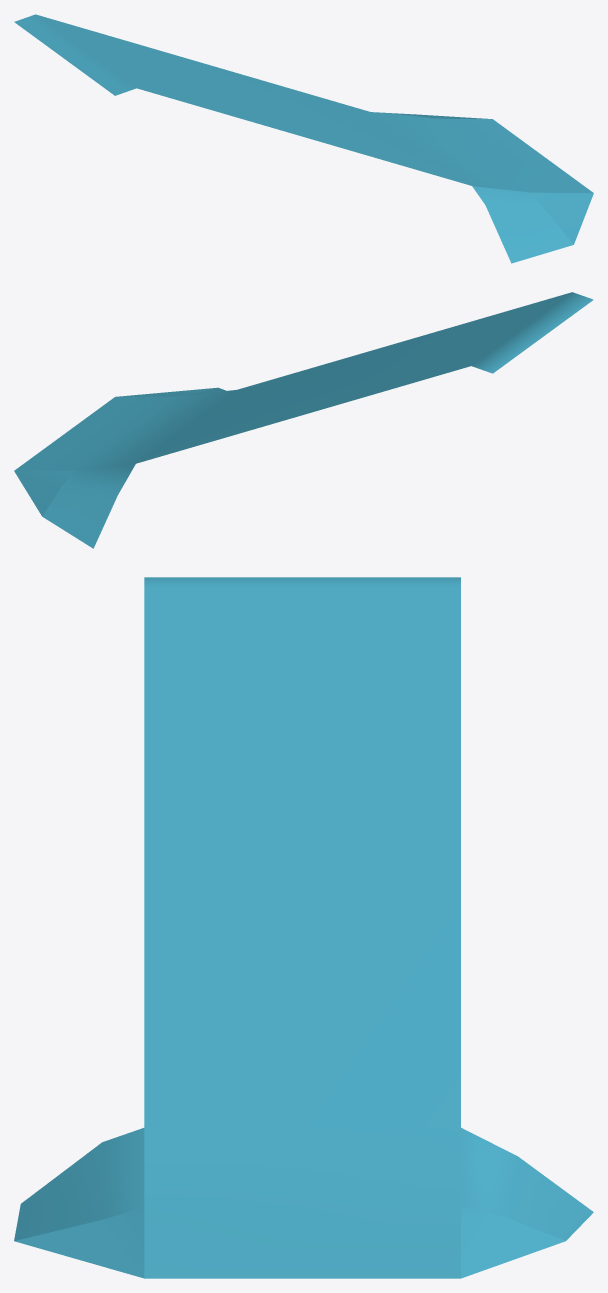
Rendered from Metal_Stair_02_Collider.fbx.
The picture shows the model from 3 angles, top to bottom: view 1: azimuth 30°, elevation 25°; view 2: azimuth 150°, elevation 25°; view 3: azimuth 270°, elevation 25°; orthographic projection. The views are drawn at different scales.
Parts seen in each view (by area): view 1: Metal_Stair_02_Collider; view 2: Metal_Stair_02_Collider; view 3: Metal_Stair_02_Collider.
Part boxes in pixels (bbox=[...]): Metal_Stair_02_Collider: bbox=[14, 14, 593, 263]; Metal_Stair_02_Collider: bbox=[14, 292, 593, 548]; Metal_Stair_02_Collider: bbox=[14, 577, 593, 1278].
Bounding box in the file's own units: 400 × 186 × 268.
